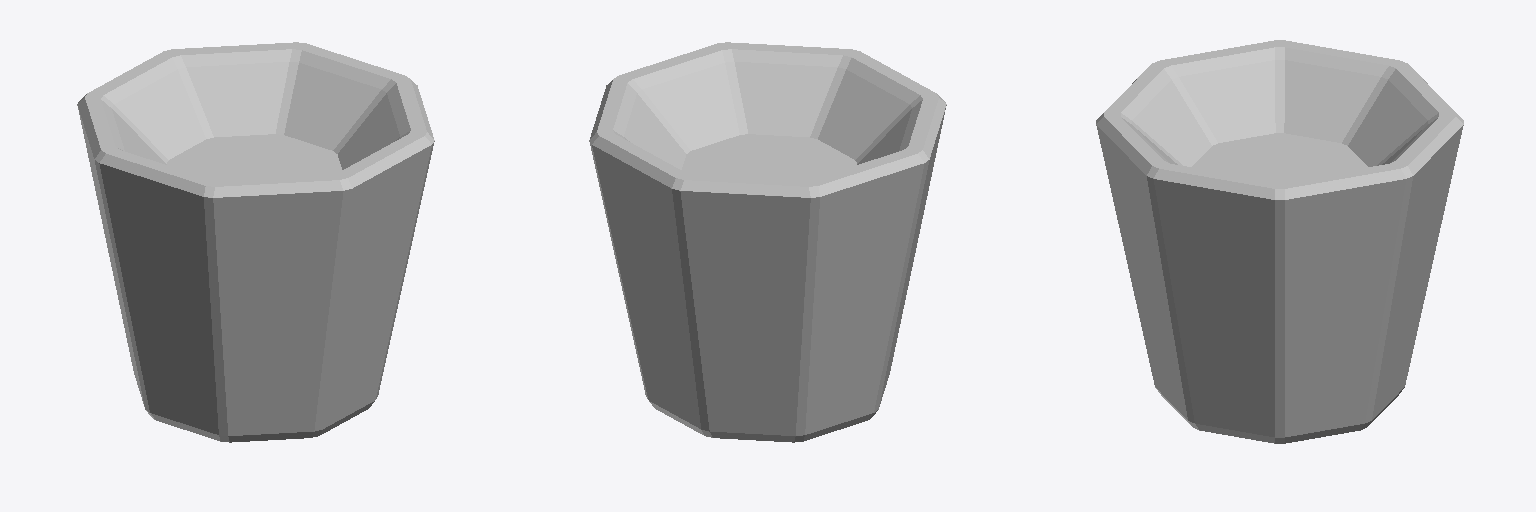
3 views of the same model, side by side, from view 1: azimuth 30°, elevation 25°; view 2: azimuth 150°, elevation 25°; view 3: azimuth 270°, elevation 25° (orthographic).
Parts seen in each view (by area): view 1: 花瓶; view 2: 花瓶; view 3: 花瓶.
Boxes of the visible parts, box(x1,y1,x2,y2) form: 花瓶: box(77, 42, 434, 442); 花瓶: box(589, 42, 946, 442); 花瓶: box(1096, 40, 1463, 443).
Bounding box in the file's own units: 0.6075 × 0.5156 × 0.6075.